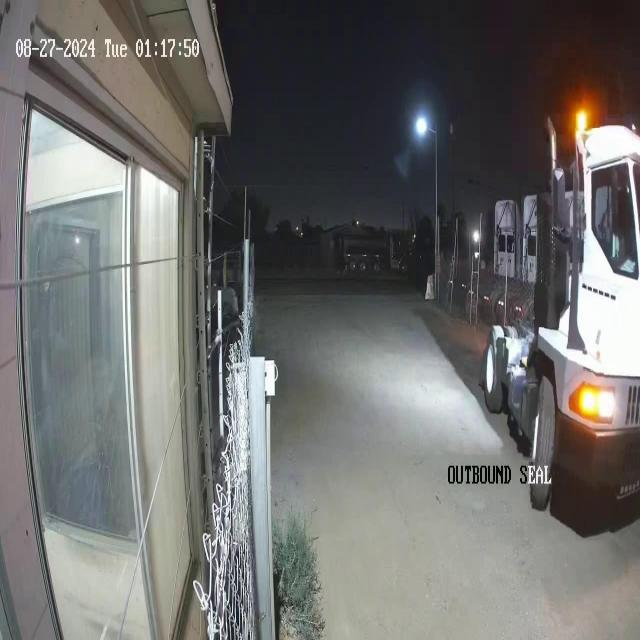TRUCK_IN: (480, 111, 639, 537)
